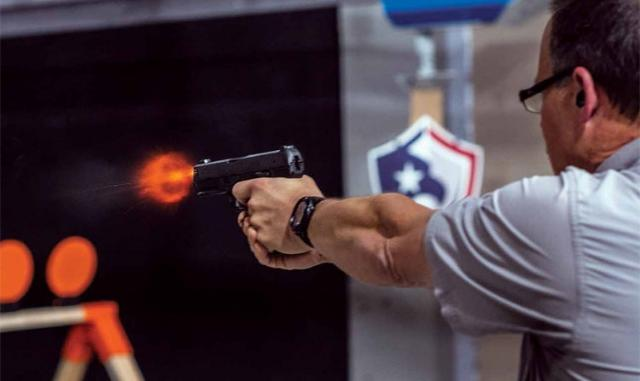handgun: (190, 141, 318, 267)
